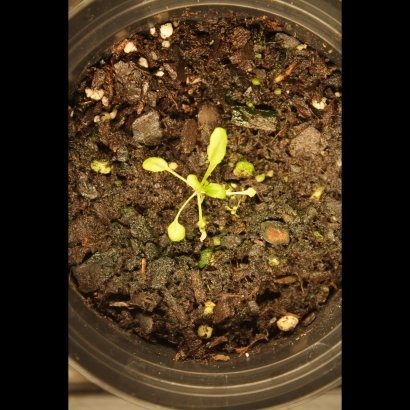leaf: (199, 122, 236, 176), (162, 215, 195, 248), (142, 150, 176, 181), (206, 178, 239, 204), (183, 169, 209, 196)
